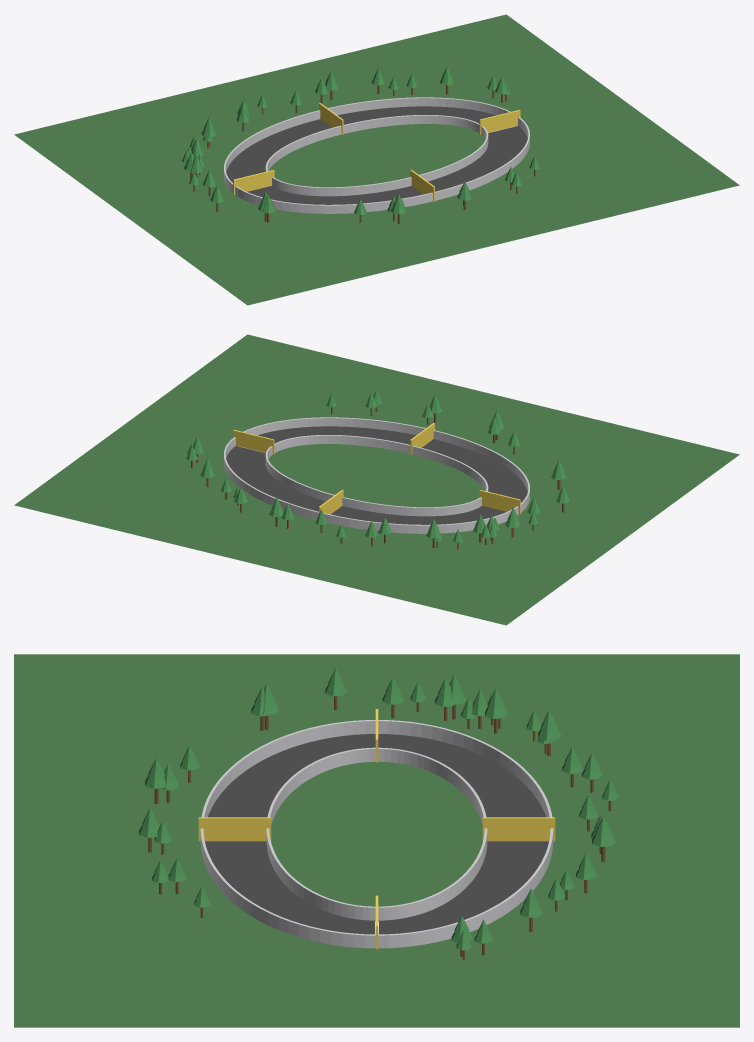
File: racetrack_proto_v2.fbx
3 views of the same model, one above another, from view 1: azimuth 30°, elevation 25°; view 2: azimuth 150°, elevation 25°; view 3: azimuth 270°, elevation 25° (orthographic). The views are drawn at different scales.
Visible parts, largest first — view 1: Ground, Road, OuterWall, InnerWall, Checkpoint_01, Checkpoint_03; view 2: Ground, Road, OuterWall, InnerWall, Checkpoint_01, Checkpoint_03; view 3: Ground, Road, OuterWall, InnerWall, Checkpoint_02, Checkpoint_04.
Boxes of the visible parts, x1=… form: Ground: x1=14, y1=14, x2=739, y2=305; Road: x1=226, y1=106, x2=527, y2=204; OuterWall: x1=224, y1=97, x2=529, y2=213; InnerWall: x1=265, y1=115, x2=488, y2=196; Checkpoint_01: x1=479, y1=110, x2=520, y2=134; Checkpoint_03: x1=233, y1=170, x2=274, y2=194; Ground: x1=14, y1=334, x2=739, y2=625; Road: x1=226, y1=426, x2=527, y2=524; OuterWall: x1=224, y1=417, x2=529, y2=533; InnerWall: x1=265, y1=435, x2=488, y2=516; Checkpoint_01: x1=233, y1=430, x2=274, y2=454; Checkpoint_03: x1=479, y1=490, x2=520, y2=514; Ground: x1=14, y1=654, x2=739, y2=1027; Road: x1=205, y1=734, x2=548, y2=934; OuterWall: x1=200, y1=720, x2=553, y2=948; InnerWall: x1=266, y1=747, x2=487, y2=920; Checkpoint_02: x1=482, y1=817, x2=555, y2=841; Checkpoint_04: x1=198, y1=817, x2=271, y2=841.
Size of the model in its own units: 11200 by 655 by 9200.
